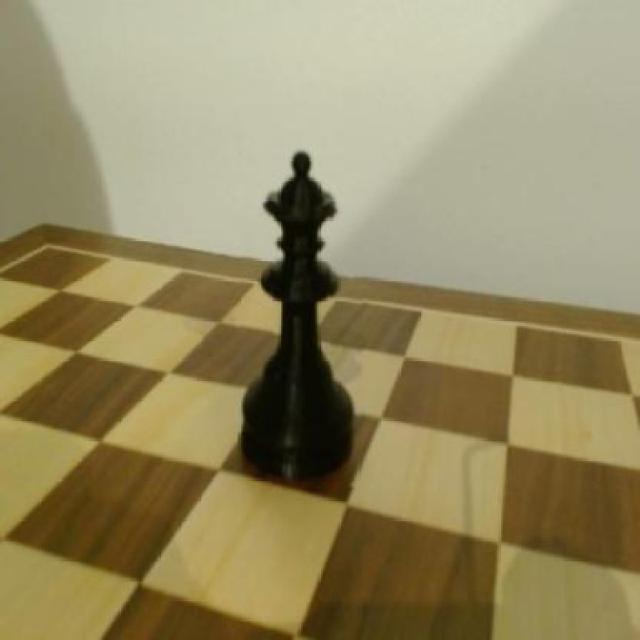black-pawn: (240, 149, 364, 487)
